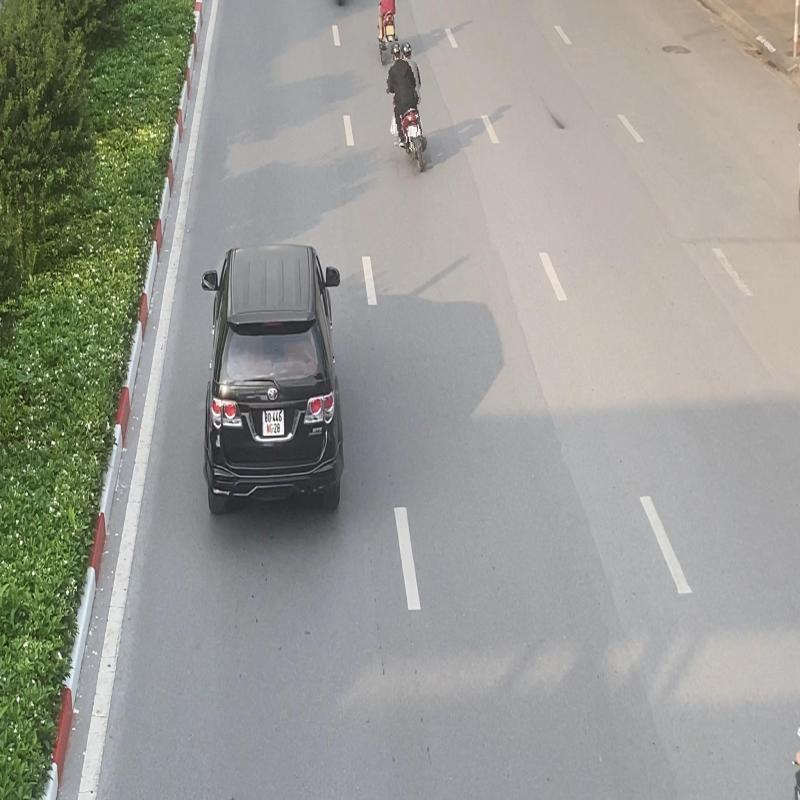helmet: (400, 40, 412, 59)
licenseplate: (407, 126, 418, 138)
motorcyclist: (384, 39, 428, 176)
